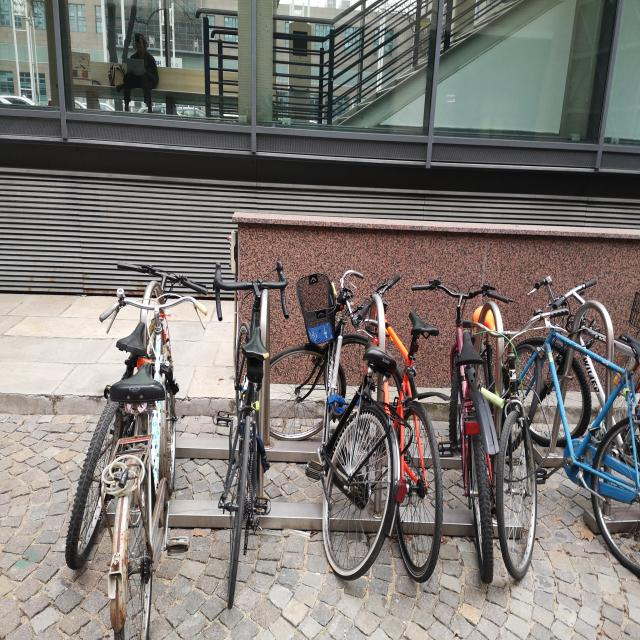Bicycle: (110, 234, 220, 640), (184, 244, 294, 594), (286, 282, 392, 608), (343, 273, 437, 607), (557, 288, 640, 568), (87, 242, 153, 551), (484, 262, 548, 580), (452, 240, 496, 580), (562, 278, 626, 423)
